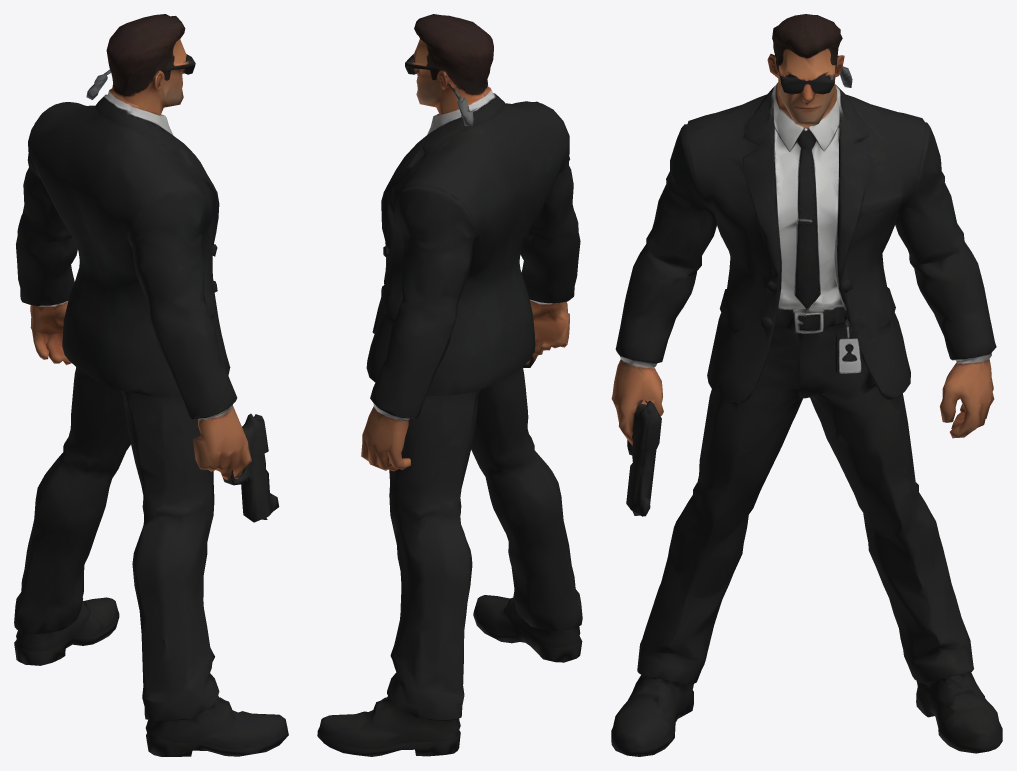
File: stage1.glb
3 views of the same model, side by side, from view 1: azimuth 30°, elevation 25°; view 2: azimuth 150°, elevation 25°; view 3: azimuth 270°, elevation 25° (orthographic). The views are drawn at different scales.
Parts seen in each view (by area): view 1: tripo_node_73984acd-2e57-4fc0-8100-fa34541fd94b; view 2: tripo_node_73984acd-2e57-4fc0-8100-fa34541fd94b; view 3: tripo_node_73984acd-2e57-4fc0-8100-fa34541fd94b.
Part boxes in pixels (<box>): tripo_node_73984acd-2e57-4fc0-8100-fa34541fd94b: <box>14,14,288,756</box>; tripo_node_73984acd-2e57-4fc0-8100-fa34541fd94b: <box>317,14,582,756</box>; tripo_node_73984acd-2e57-4fc0-8100-fa34541fd94b: <box>611,14,1002,756</box>.
Size of the model in its own units: 0.2049 by 1 by 0.4973.
Materials: 1 (1 with a texture image).
